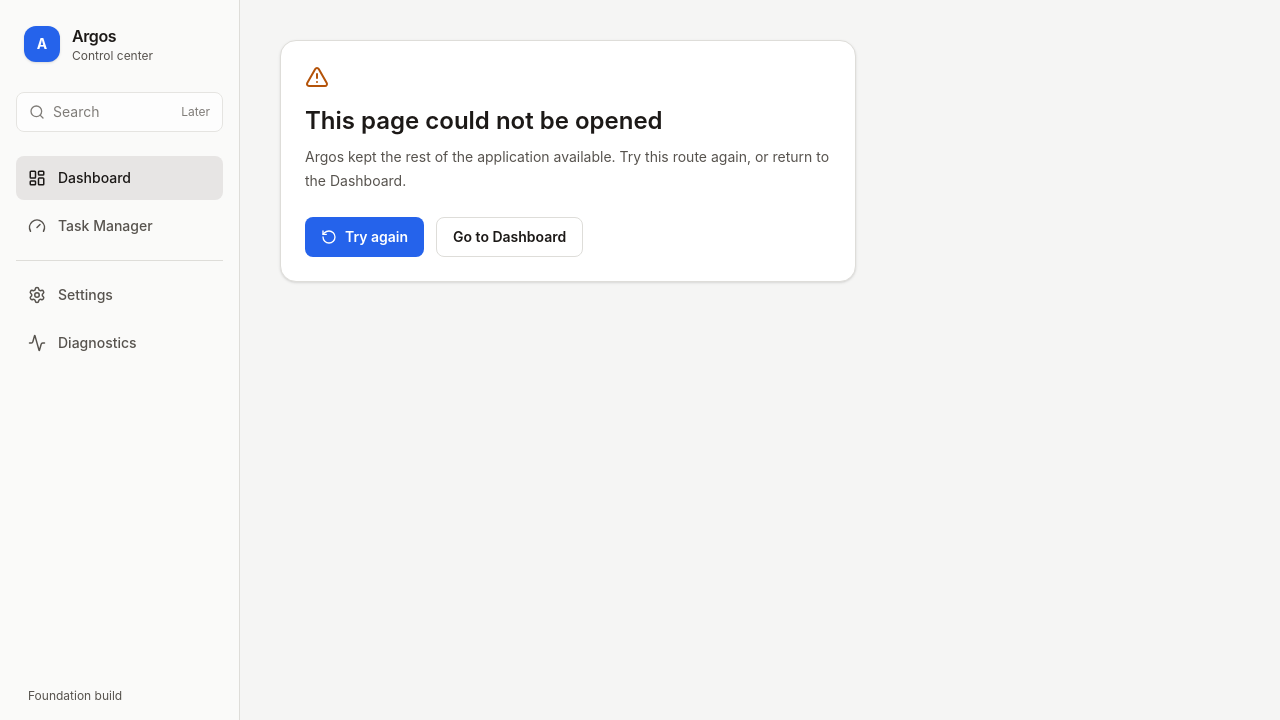
Test: application shell › contains a route failure and preserves navigation recovery
Expected: the heading "This page could not be opened" is shown, x1=305 y1=106 x2=663 y2=135
Expected: the button "Try again" is shown, x1=305 y1=217 x2=424 y2=257
Click the link "Settings" at coordinates (70, 295), box x1=28 y1=286 x2=113 y2=304
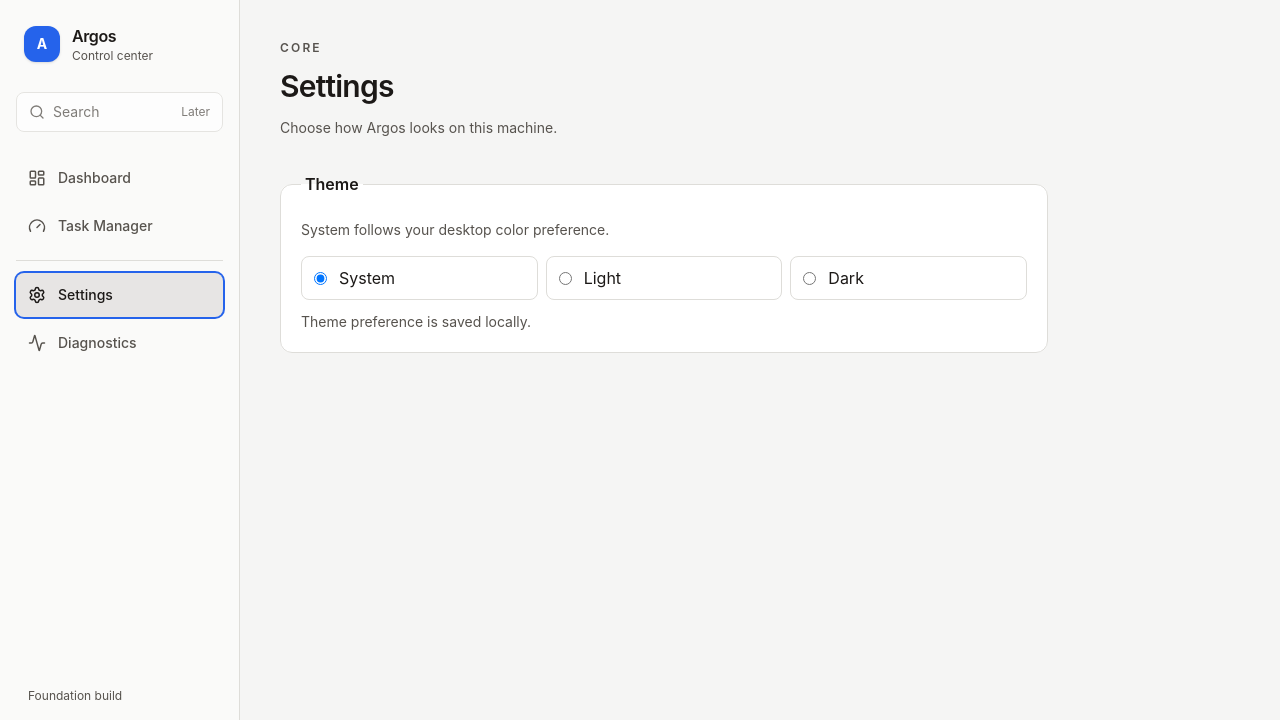
Expected: the heading "Settings" is shown, x1=280 y1=68 x2=394 y2=104
